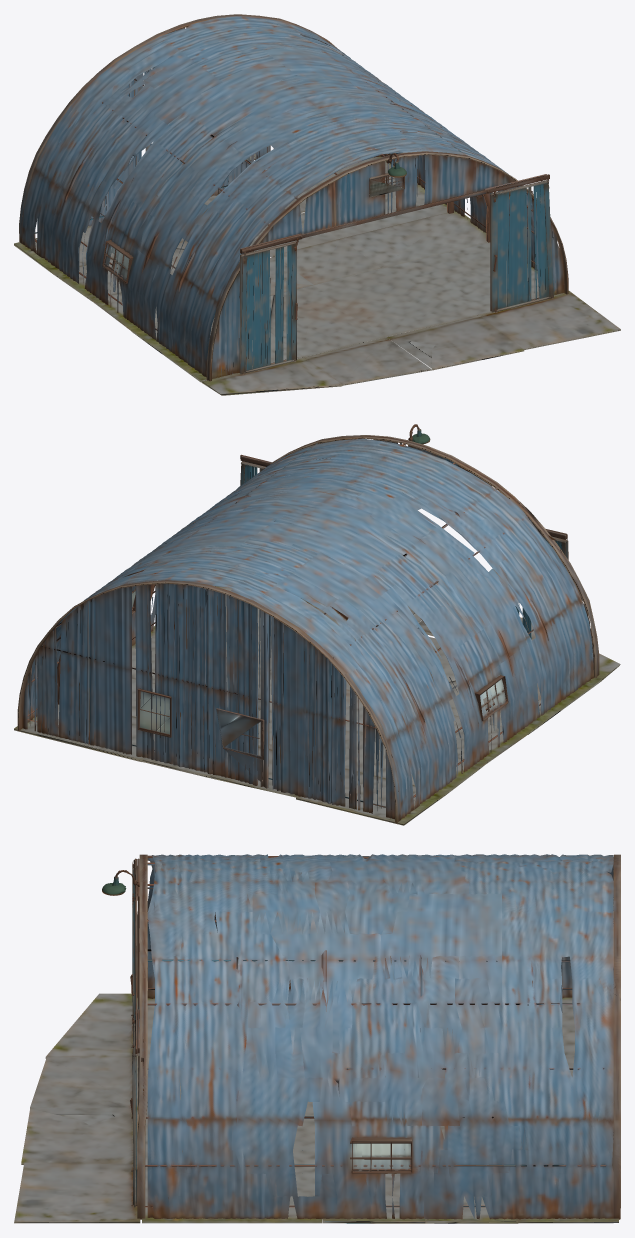
File: hangar.glb
The picture shows the model from 3 angles, top to bottom: view 1: azimuth 30°, elevation 25°; view 2: azimuth 150°, elevation 25°; view 3: azimuth 270°, elevation 25°; orthographic projection. The views are drawn at different scales.
Visible parts, largest first — view 1: geometry_0; view 2: geometry_0; view 3: geometry_0.
Part boxes in pixels (x1,y1,x2,y2): geometry_0: (14,14,620,395); geometry_0: (14,424,620,825); geometry_0: (14,854,620,1223).
Bounding box in the file's own units: 0.8423 × 0.4165 × 0.9502.
Materials: 1 (1 with a texture image).
